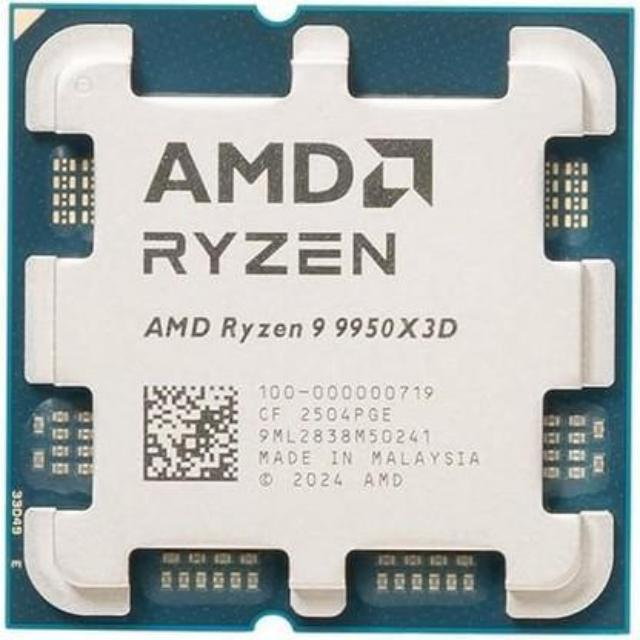CPU: (10, 8, 627, 628)
